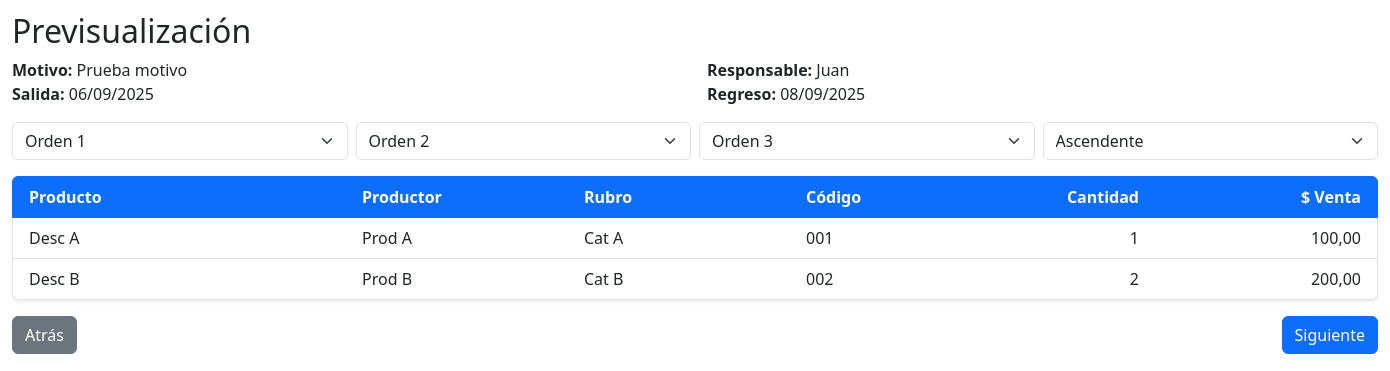
Test case: Step3Preview › allows you to sort products by producer ascending/descending
Select "Productor" in the dropdown with test id "order-select-0" at x=180, y=141, box 12,122 -> 348,160
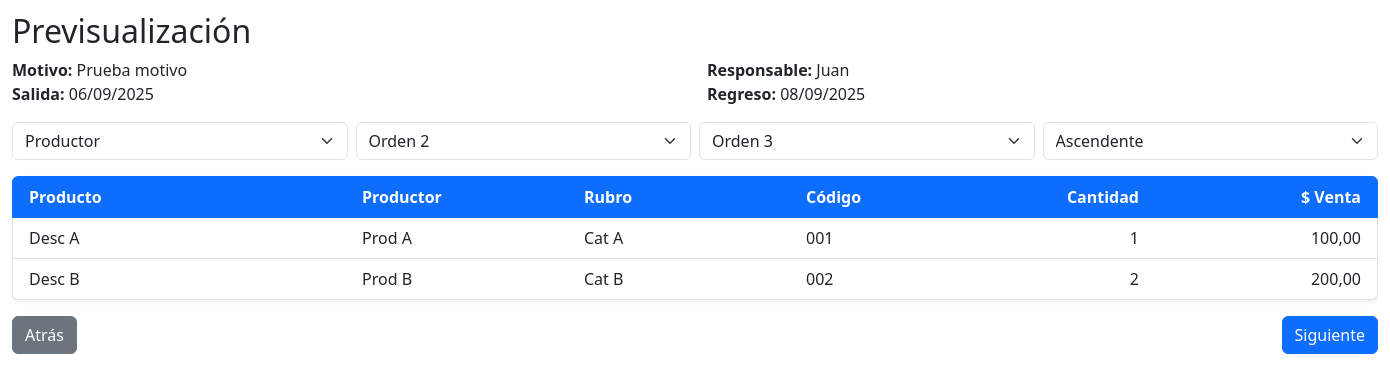
Select "Ascendente" in the dropdown with test id "sort-type" at x=1210, y=141, box 1042,122 -> 1378,160
Expected: the text with test id "product-producer" reads "Prod A", 362,227 -> 412,249
Expected: the text with test id "product-producer" reads "Prod B", 362,268 -> 412,290
Select "Descendente" in the dropdown with test id "sort-type" at x=1210, y=141, box 1042,122 -> 1378,160
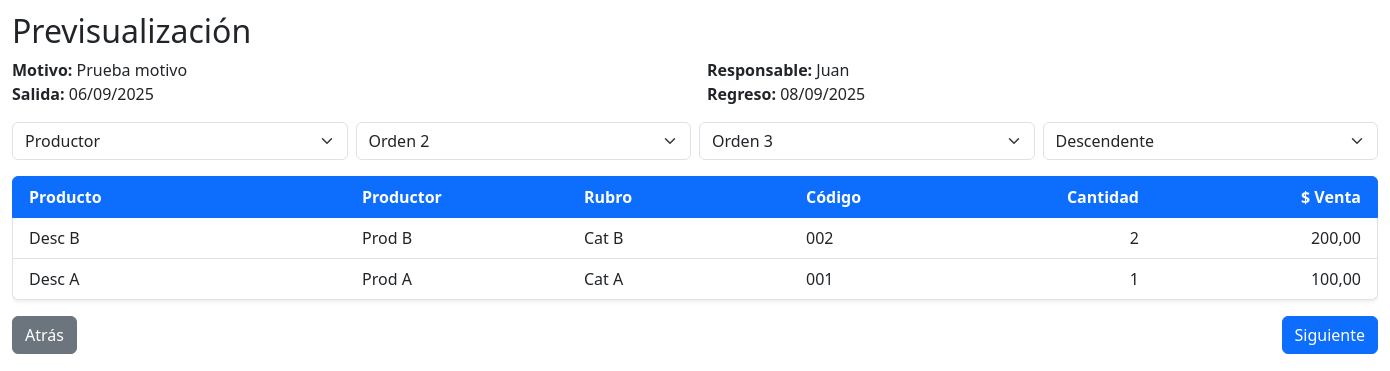
Expected: the text with test id "product-producer" reads "Prod B", 362,227 -> 412,249
Expected: the text with test id "product-producer" reads "Prod A", 362,268 -> 412,290
